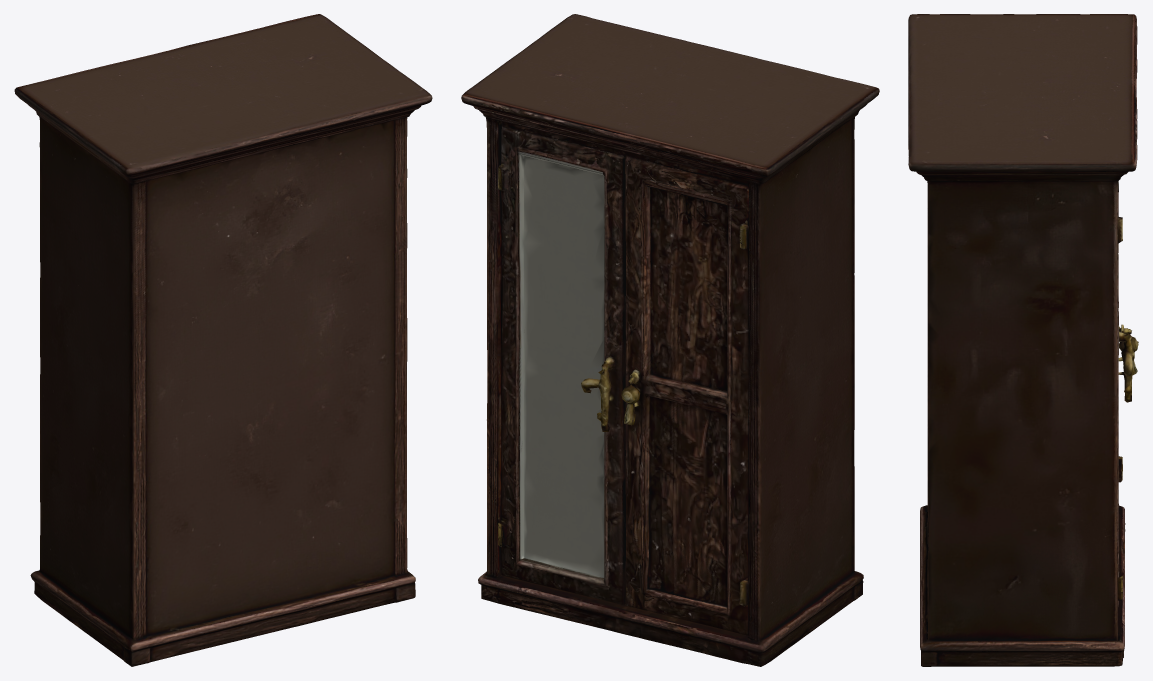
Rendered from scene-wardrobe-mirrored-v03.glb.
3 views of the same model, side by side, from view 1: azimuth 30°, elevation 25°; view 2: azimuth 150°, elevation 25°; view 3: azimuth 270°, elevation 25° (orthographic).
Visible parts, largest first — view 1: tripo_node_bc4ae101-55be-4422-af8a-5e9411e8a78b; view 2: tripo_node_bc4ae101-55be-4422-af8a-5e9411e8a78b; view 3: tripo_node_bc4ae101-55be-4422-af8a-5e9411e8a78b.
Part boxes in pixels (<box>): tripo_node_bc4ae101-55be-4422-af8a-5e9411e8a78b: <box>14,14,432,666</box>; tripo_node_bc4ae101-55be-4422-af8a-5e9411e8a78b: <box>461,14,879,666</box>; tripo_node_bc4ae101-55be-4422-af8a-5e9411e8a78b: <box>908,14,1138,666</box>.
Size of the model in its own units: 1.34 by 2.1 by 0.861.
Materials: 1 (1 with a texture image).
